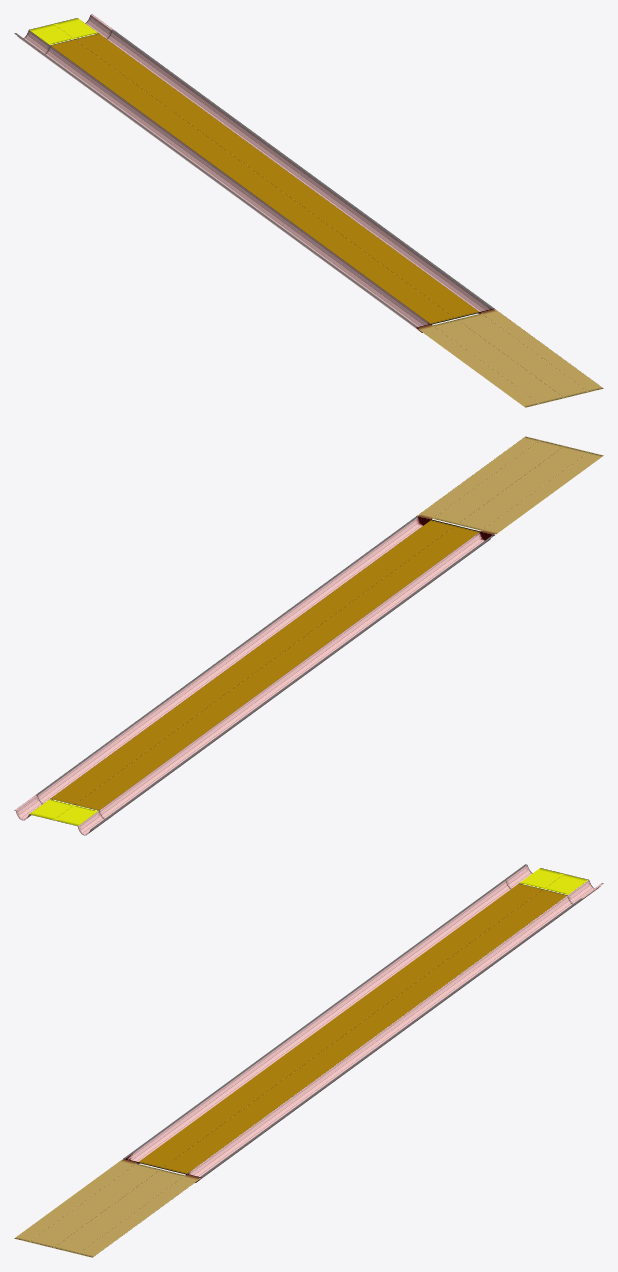
Rendered from lane.obj.
3 renders of one model, top to bottom at view 1: azimuth 30°, elevation 25°; view 2: azimuth 150°, elevation 25°; view 3: azimuth 330°, elevation 25°, orthographic.
Visible parts, largest first — view 1: bowling_lane.001_Plane.001; view 2: bowling_lane.001_Plane.001; view 3: bowling_lane.001_Plane.001.
Part boxes in pixels (x1=…): bowling_lane.001_Plane.001: x1=14, y1=14, x2=603, y2=407; bowling_lane.001_Plane.001: x1=14, y1=436, x2=603, y2=835; bowling_lane.001_Plane.001: x1=14, y1=864, x2=603, y2=1257.
Bounding box in the file's own units: 3.82 × 0.3517 × 43.11.
